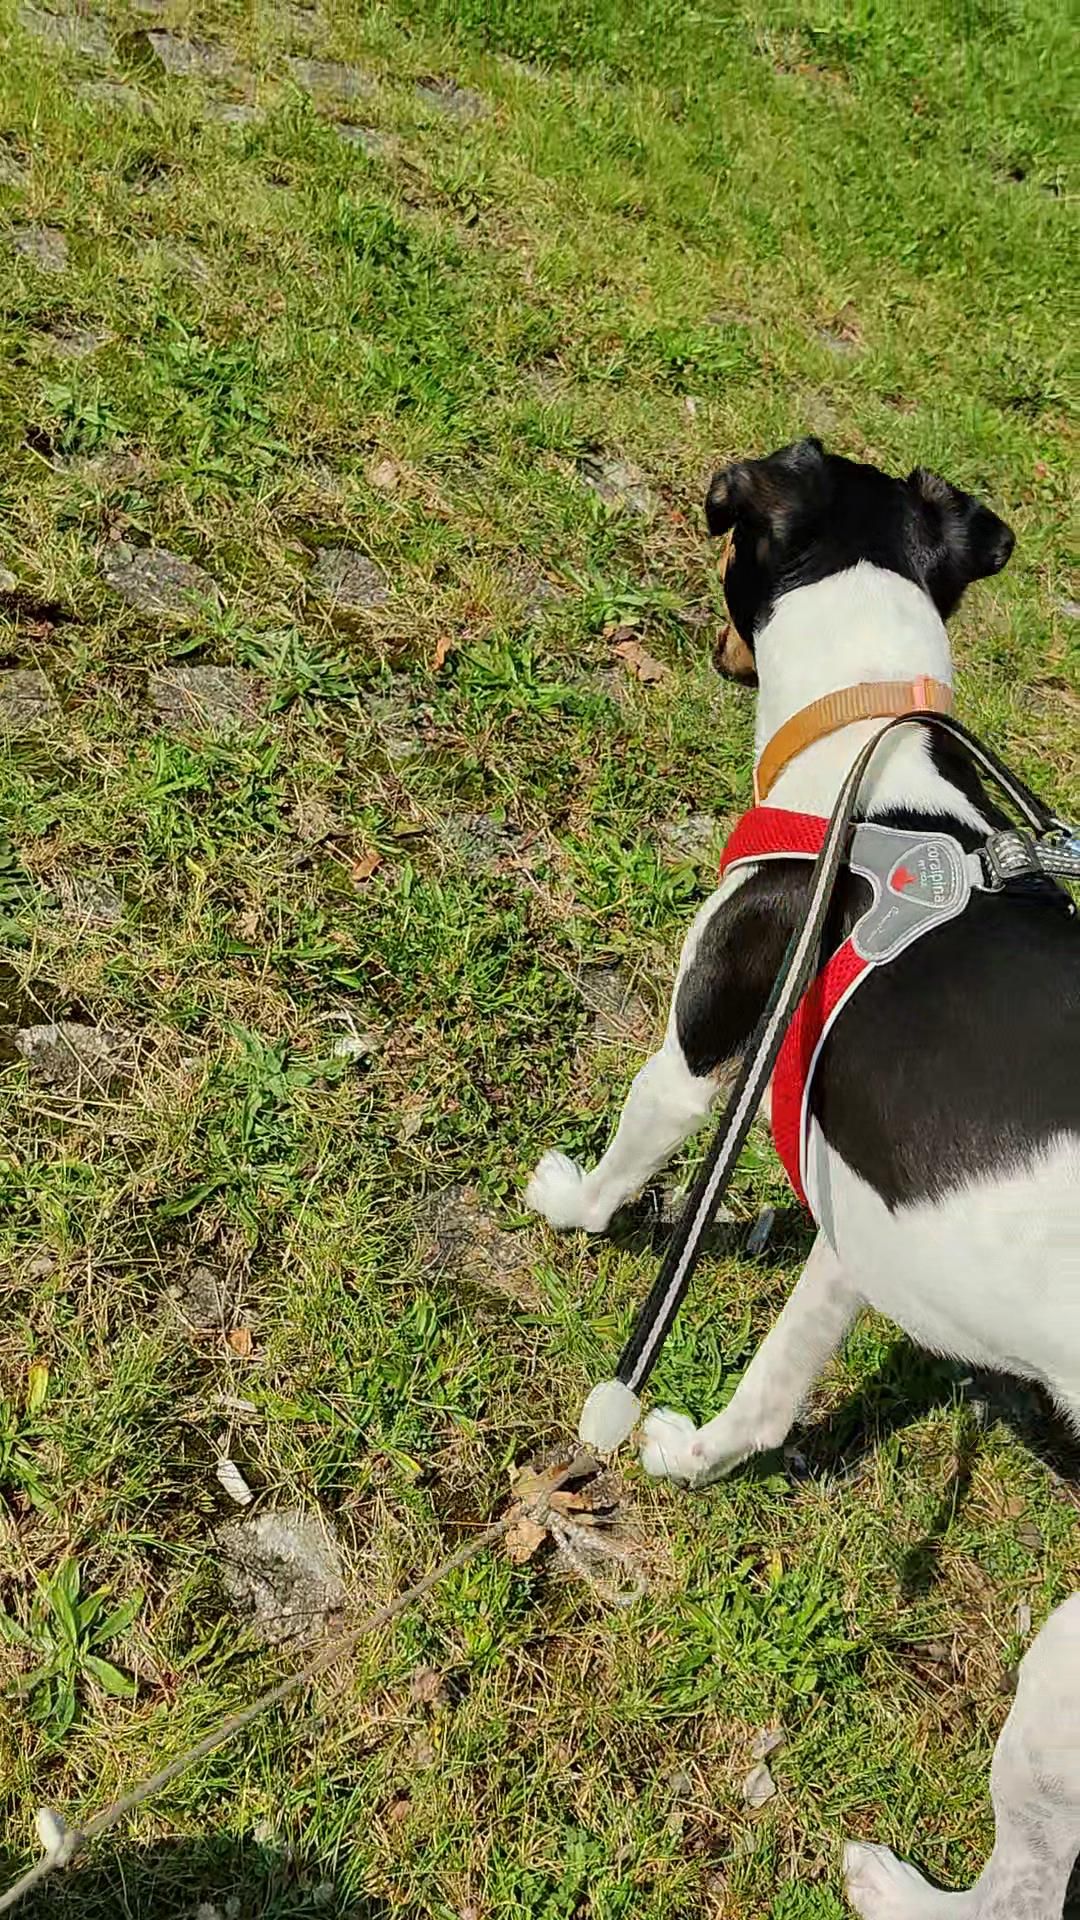Dog: (514, 429, 1079, 1919)
